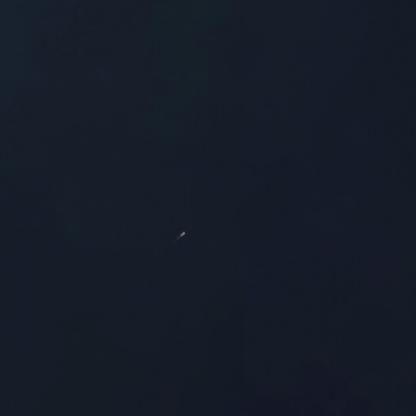ship: (10, 229, 21, 237)
